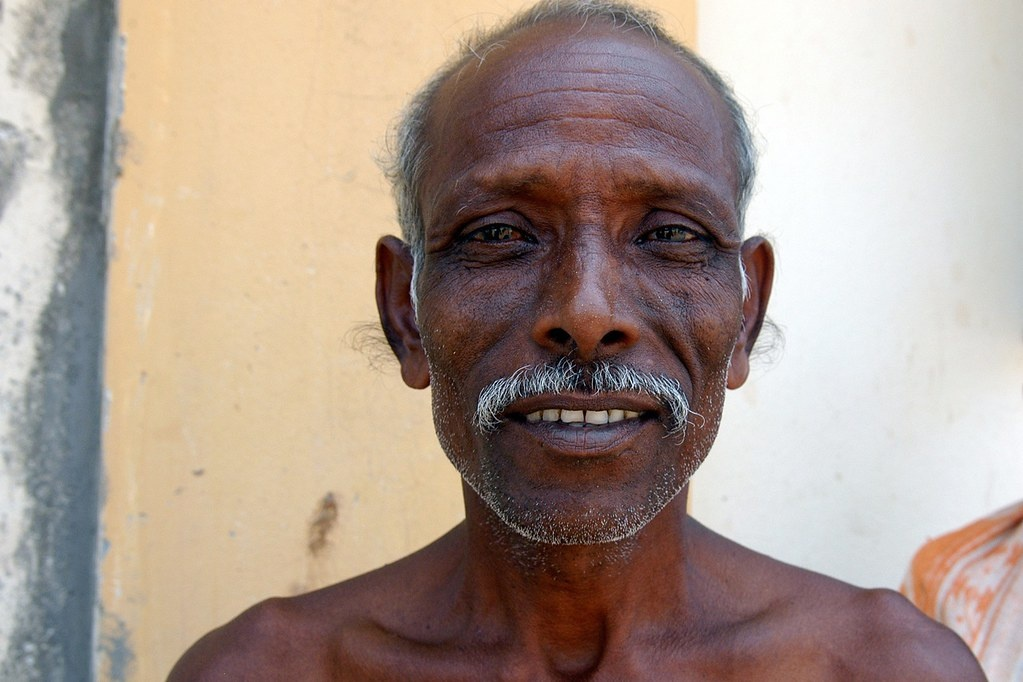without_mask: (377, 16, 784, 555)
